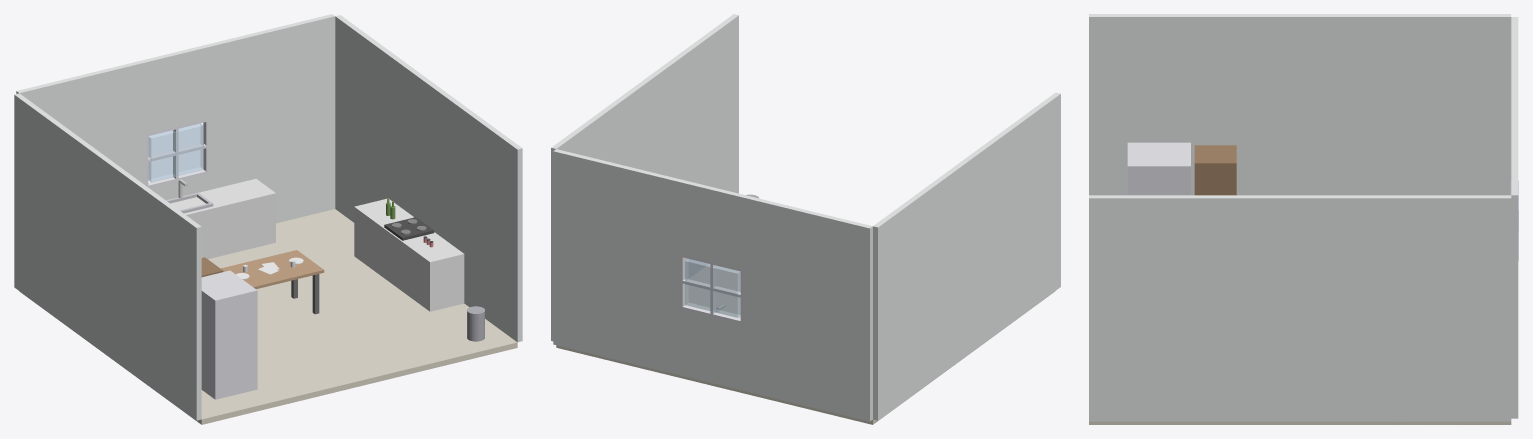
File: kitchen-1.glb
3 renders of one model, left to right at view 1: azimuth 30°, elevation 25°; view 2: azimuth 150°, elevation 25°; view 3: azimuth 270°, elevation 25°, orthographic. The views are drawn at different scales.
Parts seen in each view (by area): view 1: KitchenDiningScene-Cube-cube.002, KitchenDiningScene-BooleanDifference-Cube-cube, KitchenDiningScene-Cube-cube.001, KitchenDiningScene-Cube-cube, CounterTop-Cube-cube, Fridge-Cube-cube, CounterTop-Cube-cube.001, Window-Cube-cube, DiningTable-Cube-cube, Window-BooleanDifference-Cube-cube, TrashBin-Cylinder-cylinder, Stove-Cube-cube; view 2: KitchenDiningScene-BooleanDifference-Cube-cube, KitchenDiningScene-Cube-cube.002, KitchenDiningScene-Cube-cube.001, KitchenDiningScene-Cube-cube, Window-Cube-cube, Window-BooleanDifference-Cube-cube; view 3: KitchenDiningScene-Cube-cube.001, KitchenDiningScene-Cube-cube.002, Fridge-Cube-cube, KitchenDiningScene-BooleanDifference-Cube-cube, Pantry-Cube-cube, KitchenDiningScene-Cube-cube.
Boxes of the visible parts, x1,y1,x2,y2 form: KitchenDiningScene-Cube-cube.002: (14,93,201,420); KitchenDiningScene-BooleanDifference-Cube-cube: (16,14,335,223); KitchenDiningScene-Cube-cube.001: (335,15,522,342); KitchenDiningScene-Cube-cube: (19,209,517,424); CounterTop-Cube-cube: (354,198,464,311); Fridge-Cube-cube: (201,270,257,399); CounterTop-Cube-cube.001: (170,179,275,259); Window-Cube-cube: (148,123,203,182); DiningTable-Cube-cube: (221,250,324,289); Window-BooleanDifference-Cube-cube: (145,118,208,188); TrashBin-Cylinder-cylinder: (467,306,484,341); Stove-Cube-cube: (384,217,434,240); KitchenDiningScene-BooleanDifference-Cube-cube: (553,149,872,421); KitchenDiningScene-Cube-cube.002: (873,92,1060,420); KitchenDiningScene-Cube-cube.001: (551,14,738,341); KitchenDiningScene-Cube-cube: (556,264,1055,424); Window-Cube-cube: (685,259,740,317); Window-BooleanDifference-Cube-cube: (680,254,743,324); KitchenDiningScene-Cube-cube.001: (1089,195,1511,421); KitchenDiningScene-Cube-cube.002: (1089,14,1511,195); Fridge-Cube-cube: (1127,142,1190,195); KitchenDiningScene-BooleanDifference-Cube-cube: (1511,17,1518,418); Pantry-Cube-cube: (1194,145,1236,195); KitchenDiningScene-Cube-cube: (1089,421,1511,424).
Size of the model in its own units: 6.2 by 3.6 by 6.11.
